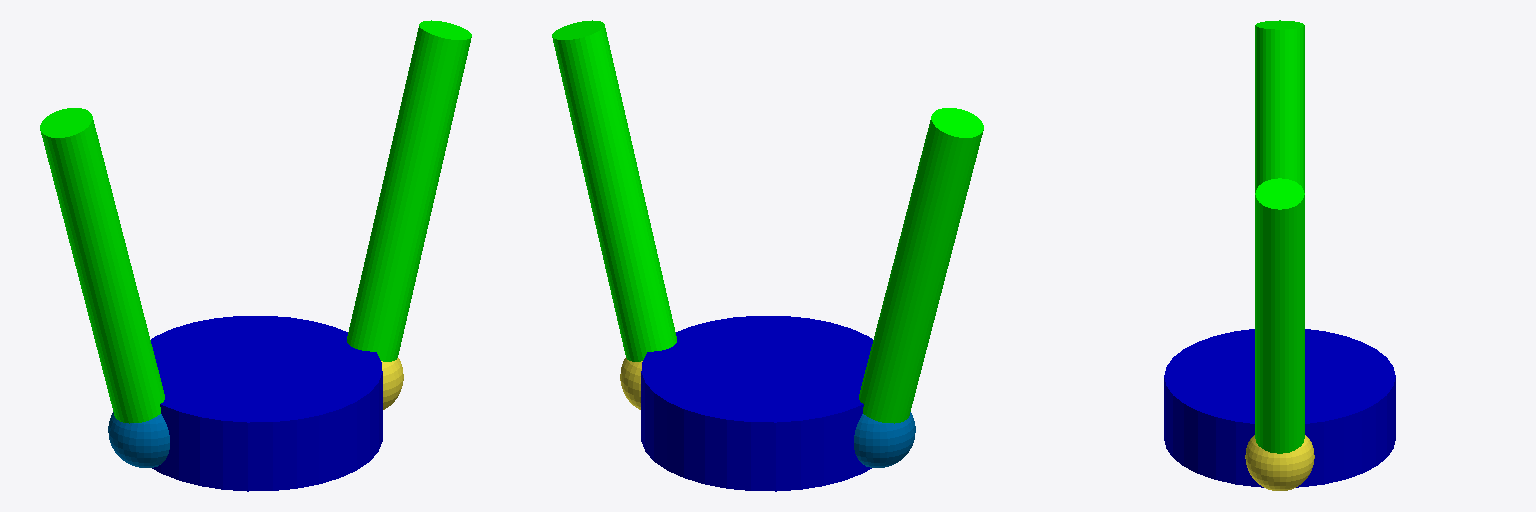
The robot description file, URDF, robot "gripper_2f_1j":
<?xml version='1.0' encoding='UTF-8'?>
<robot name="gripper_2f_1j">
  <link name="palm">
    <inertial>
      <origin xyz="0.0 0.0 0.0" rpy="0.0 -0.0 0.0"/>
      <mass value="1.0"/>
      <inertia ixx="1.0" ixy="0.0" ixz="0.0" iyy="1.0" iyz="0.0" izz="1.0"/>
    </inertial>
    <visual>
      <geometry>
        <cylinder radius="0.05" length="0.03"/>
      </geometry>
      <material name="blue"/>
      <origin xyz="0.0 0.0 0.0" rpy="0.0 -0.0 0.0"/>
    </visual>
    <collision>
      <geometry>
        <cylinder radius="0.05" length="0.03"/>
      </geometry>
      <origin xyz="0.0 0.0 0.0" rpy="0.0 0.0 0.0"/>
    </collision>
  </link>
  <link name="f11">
    <inertial>
      <origin xyz="0.0 0.0 0.0" rpy="0.0 -0.0 0.0"/>
      <mass value="1.0"/>
      <inertia ixx="1.0" ixy="0.0" ixz="0.0" iyy="1.0" iyz="0.0" izz="1.0"/>
    </inertial>
    <visual>
      <geometry>
        <cylinder radius="0.010642733465196367" length="0.14670515770586923"/>
      </geometry>
      <material name="green"/>
      <origin xyz="0.0 0.0 0.07335257885293461" rpy="0.0 -0.0 0.0"/>
    </visual>
    <collision>
      <geometry>
        <cylinder radius="0.010642733465196367" length="0.14670515770586923"/>
      </geometry>
      <origin xyz="0.0 0.0 0.05" rpy="0.0 0.0 0.0"/>
    </collision>
  </link>
  <link name="f21">
    <inertial>
      <origin xyz="0.0 0.0 0.0" rpy="0.0 -0.0 0.0"/>
      <mass value="1.0"/>
      <inertia ixx="1.0" ixy="0.0" ixz="0.0" iyy="1.0" iyz="0.0" izz="1.0"/>
    </inertial>
    <visual>
      <geometry>
        <cylinder radius="0.010642733465196367" length="0.14670515770586923"/>
      </geometry>
      <material name="green"/>
      <origin xyz="0.0 0.0 0.07335257885293461" rpy="0.0 -0.0 0.0"/>
    </visual>
    <collision>
      <geometry>
        <cylinder radius="0.010642733465196367" length="0.14670515770586923"/>
      </geometry>
      <origin xyz="0.0 0.0 0.05" rpy="0.0 0.0 0.0"/>
    </collision>
  </link>
  <link name="f11_base">
    <inertial>
      <origin xyz="0.0 0.0 0.0" rpy="0.0 -0.0 0.0"/>
      <mass value="1.0"/>
      <inertia ixx="1.0" ixy="0.0" ixz="0.0" iyy="1.0" iyz="0.0" izz="1.0"/>
    </inertial>
    <visual>
      <geometry>
        <sphere radius="0.015"/>
      </geometry>
      <origin xyz="0.0 0.0 0.0" rpy="0.0 -0.0 0.0"/>
    </visual>
  </link>
  <link name="f21_base">
    <inertial>
      <origin xyz="0.0 0.0 0.0" rpy="0.0 -0.0 0.0"/>
      <mass value="1.0"/>
      <inertia ixx="1.0" ixy="0.0" ixz="0.0" iyy="1.0" iyz="0.0" izz="1.0"/>
    </inertial>
    <visual>
      <geometry>
        <sphere radius="0.015"/>
      </geometry>
      <origin xyz="0.0 0.0 0.0" rpy="0.0 -0.0 0.0"/>
    </visual>
  </link>
  <joint name="f11_joint" type="revolute">
    <dynamics damping="100.0" friction="1.0"/>
    <limit effort="30.0" velocity="2.0" lower="-0.6" upper="0.25"/>
    <parent link="f11_base"/>
    <child link="f11"/>
    <axis xyz="0. 1. 0."/>
    <origin xyz="0.0 0.0 0.0" rpy="0.0 0.25 0.0"/>
  </joint>
  <joint name="f21_joint" type="revolute">
    <dynamics damping="100.0" friction="1.0"/>
    <limit effort="30.0" velocity="2.0" lower="-0.6" upper="0.25"/>
    <parent link="f21_base"/>
    <child link="f21"/>
    <axis xyz=" 0. -1.  0."/>
    <origin xyz="0.0 0.0 0.0" rpy="0.0 -0.25 0.0"/>
  </joint>
  <joint name="f11_base_joint" type="fixed">
    <parent link="palm"/>
    <child link="f11_base"/>
    <axis xyz="1. 0. 0."/>
    <origin xyz="0.05 0.0 0.0" rpy="0.0 0.0 0.0"/>
  </joint>
  <joint name="f21_base_joint" type="fixed">
    <parent link="palm"/>
    <child link="f21_base"/>
    <axis xyz="1. 0. 0."/>
    <origin xyz="-0.05 -0.0 0.0" rpy="0.0 0.0 0.0"/>
  </joint>
  <material name="blue">
    <color rgba="0.  0.  0.8 1. "/>
  </material>
  <material name="green">
    <color rgba="0. 1. 0. 1."/>
  </material>
</robot>

--- What the picture shows (computed from the rendered views, not written in the file) ---
The picture shows the robot from 3 angles, left to right: view 1: azimuth 30°, elevation 25°; view 2: azimuth 150°, elevation 25°; view 3: azimuth 270°, elevation 25°; orthographic projection.
Model gripper_2f_1j with 5 links and 4 joints (2 revolute, 2 fixed), rooted at palm, posed every joint at zero.
Visible links, largest first — view 1: palm, f11, f21, f21_base, f11_base; view 2: palm, f11, f21, f21_base, f11_base; view 3: palm, f11, f21, f11_base.
Link boxes in pixels (x1,y1,x2,y2): palm: (151,316,382,491); f11: (347,20,471,361); f21: (40,108,164,423); f21_base: (108,412,169,467); f11_base: (381,358,403,409); palm: (641,316,872,491); f11: (552,20,676,361); f21: (859,108,983,423); f21_base: (854,412,915,467); f11_base: (620,358,642,409); palm: (1164,329,1395,487); f11: (1255,178,1304,453); f21: (1255,20,1304,192); f11_base: (1245,435,1314,490).
Size in the robot's own frame: 0.1932 by 0.1 by 0.1598 metres.
Geometry: primitives only (box / cylinder / sphere), no mesh files.